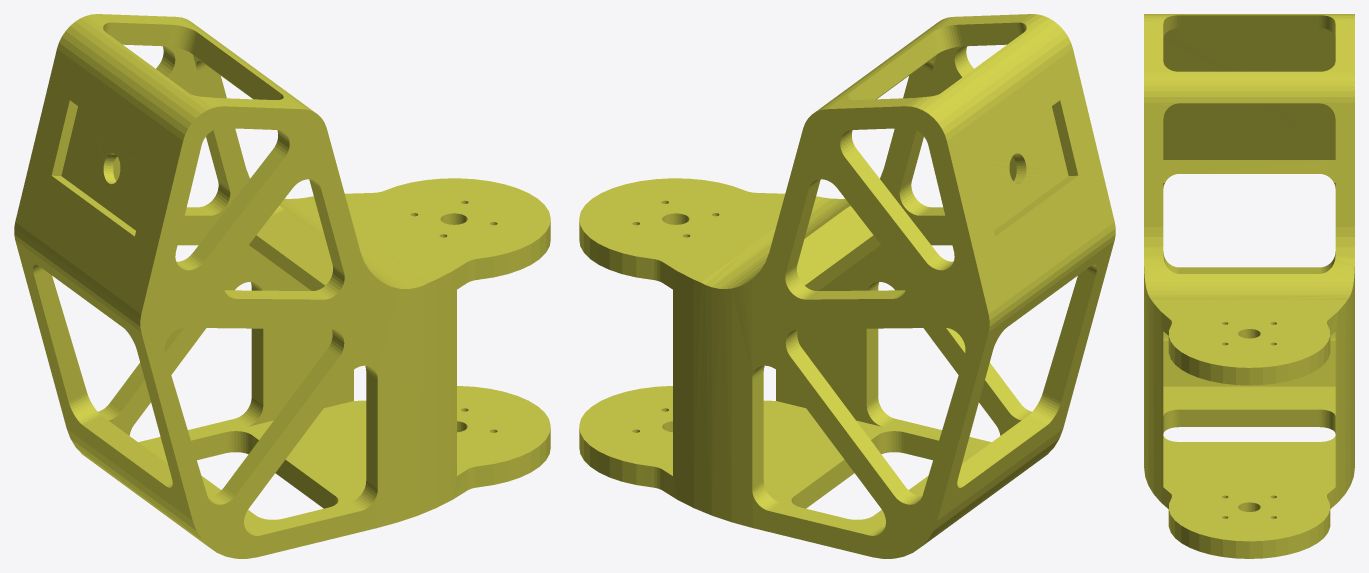
File: hip_v1.dae
3 views of the same model, side by side, from view 1: azimuth 30°, elevation 25°; view 2: azimuth 150°, elevation 25°; view 3: azimuth 270°, elevation 25° (orthographic). The views are drawn at different scales.
Parts seen in each view (by area): view 1: thigh; view 2: thigh; view 3: thigh.
Part boxes in pixels (x1,y1,x2,y2): thigh: (14, 14, 550, 558); thigh: (579, 14, 1115, 558); thigh: (1144, 14, 1354, 558).
Bounding box in the file's own units: 0.1375 × 0.0652 × 0.1313.
